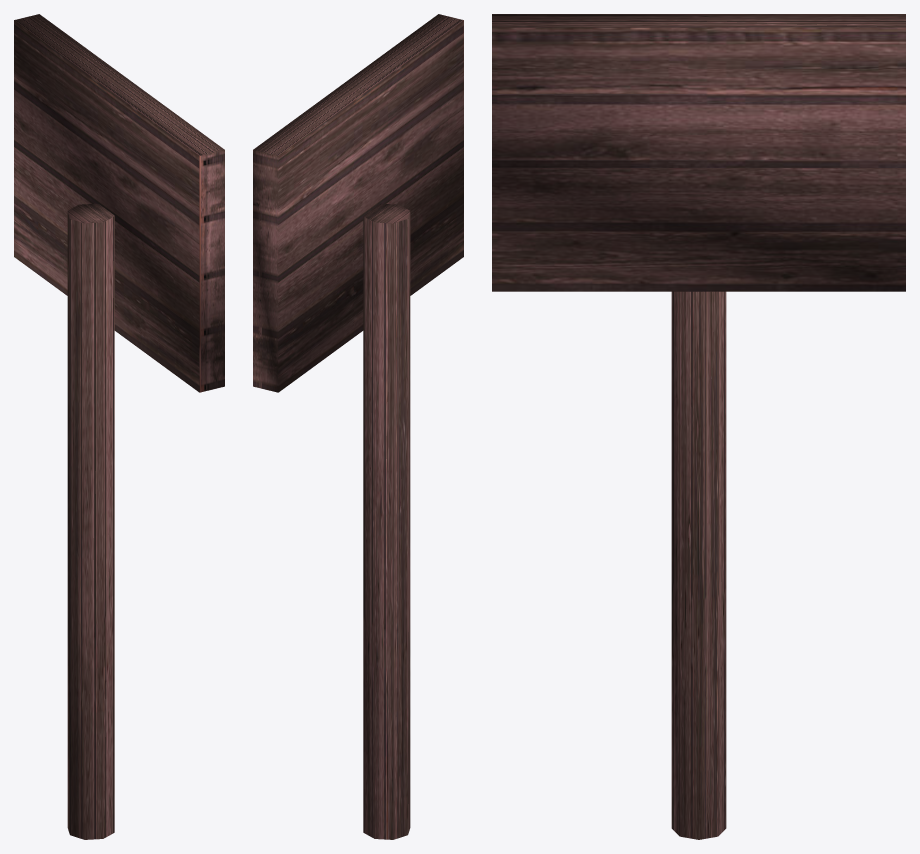
File: Placa1.fbx
The picture shows the model from 3 angles, left to right: view 1: azimuth 30°, elevation 25°; view 2: azimuth 150°, elevation 25°; view 3: azimuth 270°, elevation 25°; orthographic projection. The views are drawn at different scales.
Parts seen in each view (by area): view 1: Placa1; view 2: Placa1; view 3: Placa1.
Part boxes in pixels (x1=…): Placa1: x1=14, y1=14, x2=224, y2=839; Placa1: x1=253, y1=14, x2=463, y2=839; Placa1: x1=492, y1=14, x2=905, y2=839.
Bounding box in the file's own units: 15.77 × 81.45 × 179.
